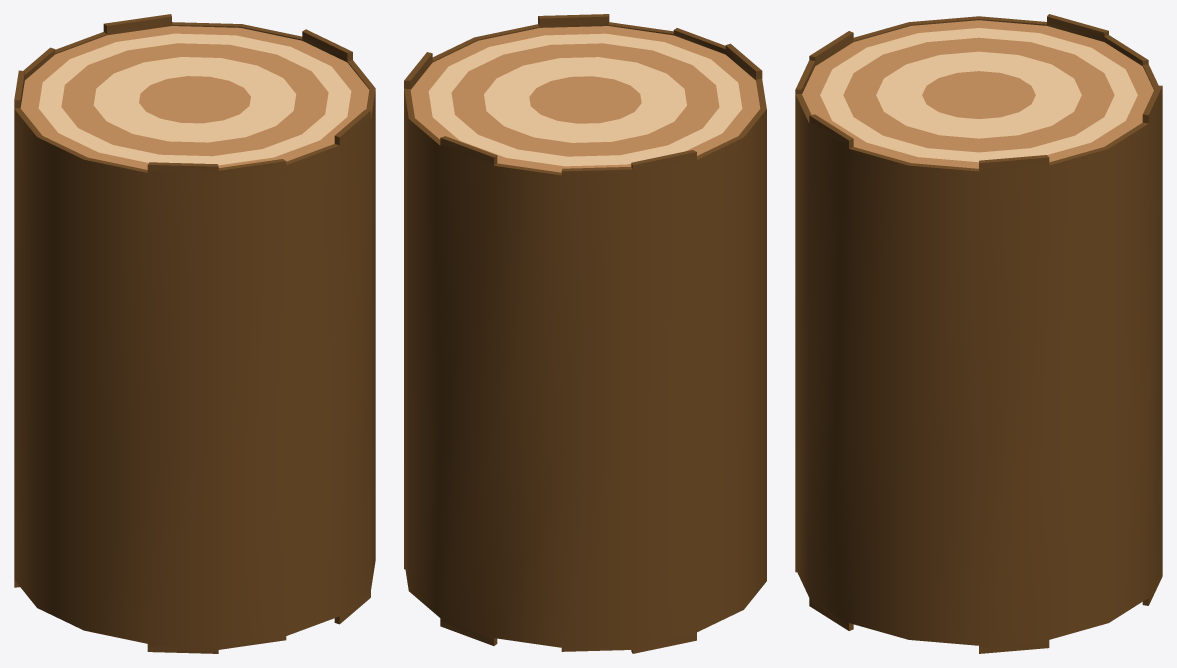
Rendered from Log_pieces.fbx.
3 views of the same model, side by side, from view 1: azimuth 30°, elevation 25°; view 2: azimuth 150°, elevation 25°; view 3: azimuth 270°, elevation 25° (orthographic).
Visible parts, largest first — view 1: Log_top, Log_bottom; view 2: Log_top, Log_bottom; view 3: Log_top, Log_bottom.
Part boxes in pixels (x1,y1,x2,y2): Log_top: (14,14,375,456); Log_bottom: (14,372,375,653); Log_top: (404,14,766,457); Log_bottom: (404,372,766,653); Log_top: (795,14,1162,455); Log_bottom: (795,378,1162,653).
Size of the model in its own units: 570 by 840 by 570.
